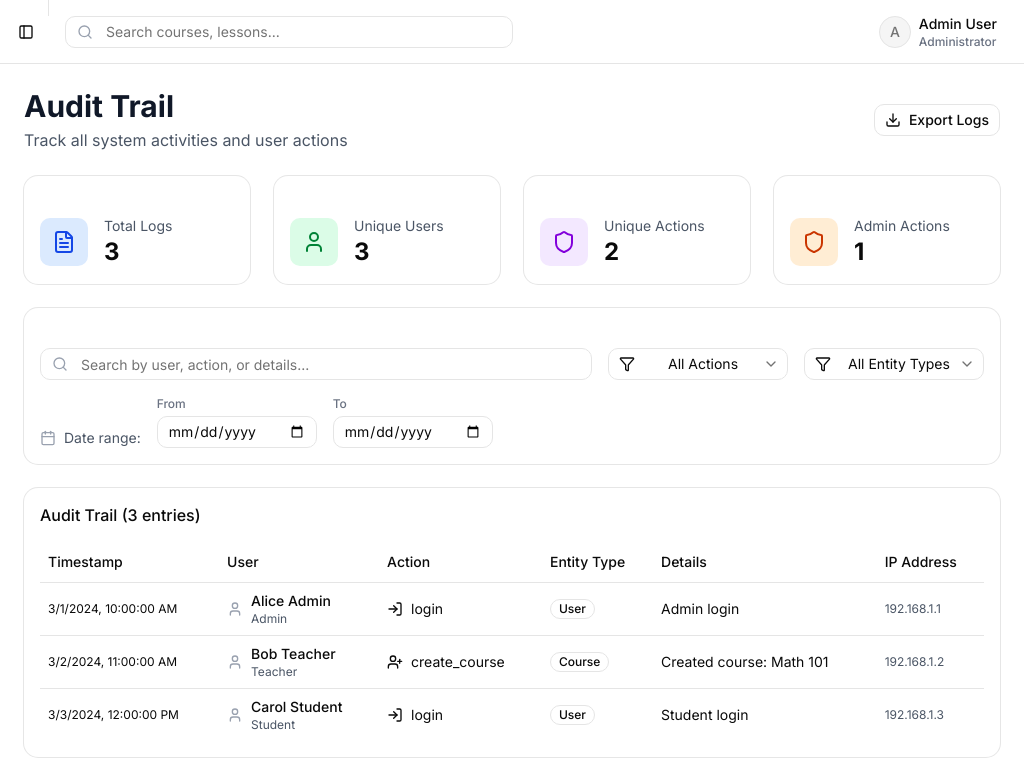
Test: Admin System Page - Audit Log Table (6.6) › client-side search filters by user name (P1.5.2)
This screenshot has width=1024, height=760.
Expected: the text "Alice Admin" is shown, [251,590,331,610]
Step 1. Type "alice" into the search field named "search audit logs" → (316, 364), box [40,348,592,380]
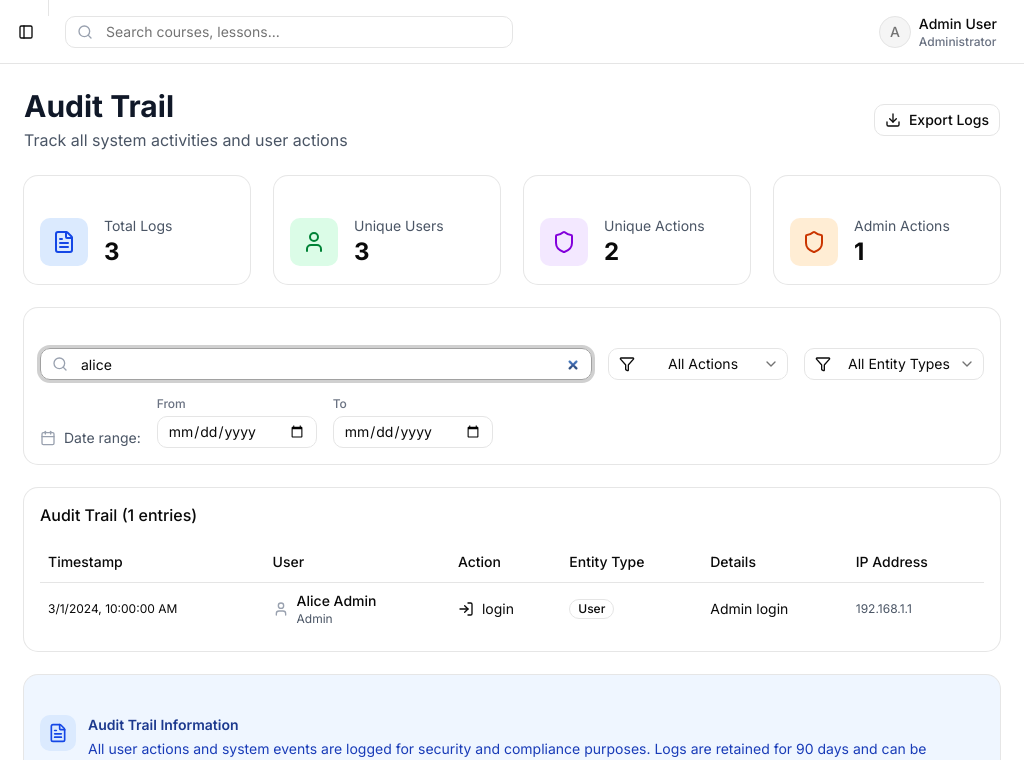
Expected: the text "Alice Admin" is shown, [297,590,376,610]
Expected: the text "Bob Teacher" is gone
Expected: the text "Carol Student" is gone
